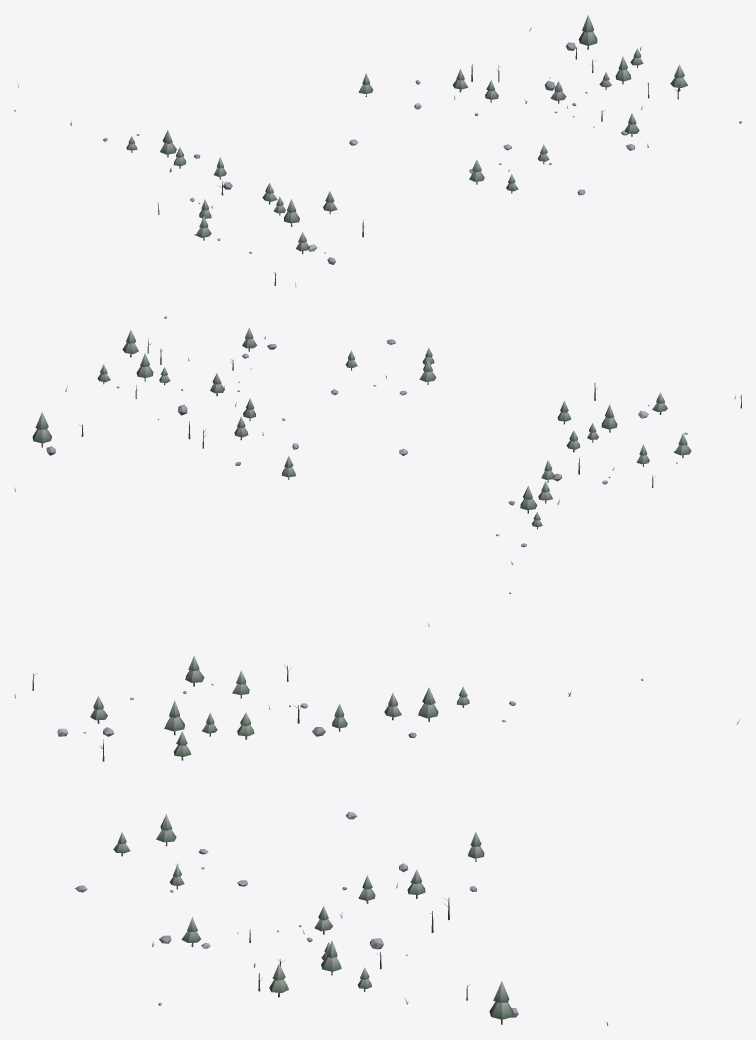
Rendered from frost_land_scatter_c15_09_lod1.glb.
3 views of the same model, one above another, from view 1: azimuth 30°, elevation 25°; view 2: azimuth 150°, elevation 25°; view 3: azimuth 270°, elevation 25° (orthographic). The views are drawn at different scales.
Visible parts, largest first — view 1: frost_land_scatter_c15_09_lod1; view 2: frost_land_scatter_c15_09_lod1; view 3: frost_land_scatter_c15_09_lod1.
Boxes of the visible parts, x1,y1,x2,y2 form: frost_land_scatter_c15_09_lod1: (14,15,741,286); frost_land_scatter_c15_09_lod1: (14,316,741,626); frost_land_scatter_c15_09_lod1: (14,655,740,1025).
Bounding box in the file's own units: 254 × 27.34 × 240.
